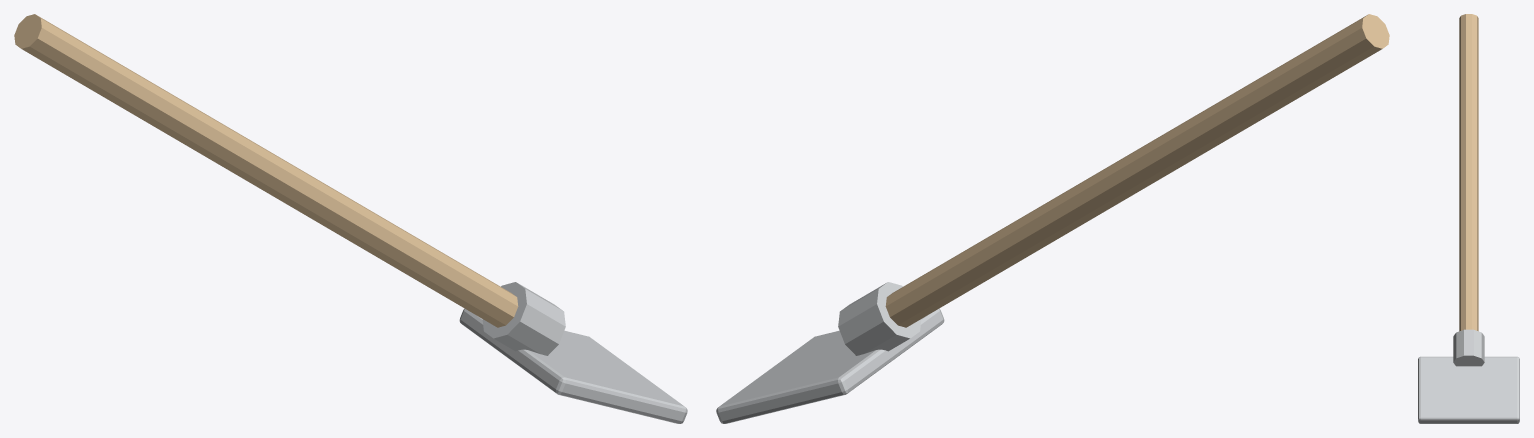
The model's file is enxada.glb.
3 renders of one model, left to right at view 1: azimuth 30°, elevation 25°; view 2: azimuth 150°, elevation 25°; view 3: azimuth 270°, elevation 25°, orthographic. The views are drawn at different scales.
Visible parts, largest first — view 1: agro_enxada_00; view 2: agro_enxada_00; view 3: agro_enxada_00.
Part boxes in pixels (box(x1,y1,x2,y2)): agro_enxada_00: box(14, 14, 687, 423); agro_enxada_00: box(716, 14, 1389, 423); agro_enxada_00: box(1418, 14, 1519, 423).
Bounding box in the file's own units: 1.5 × 1.2 × 0.42.
